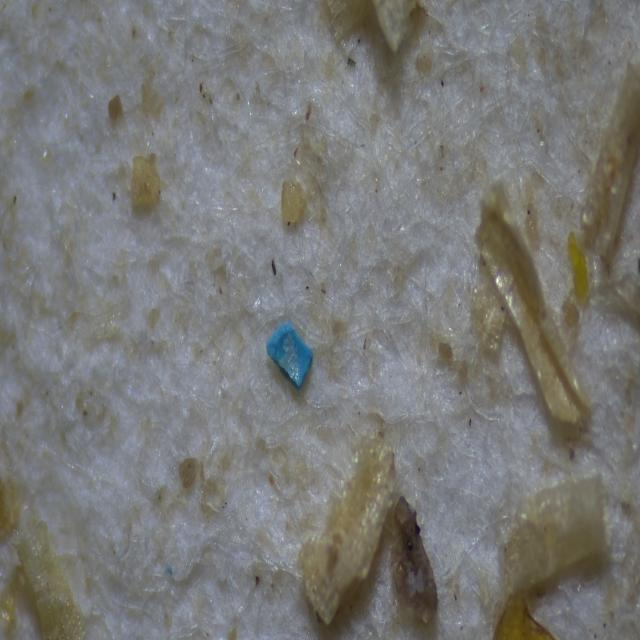microplastic: (259, 323, 323, 388)
